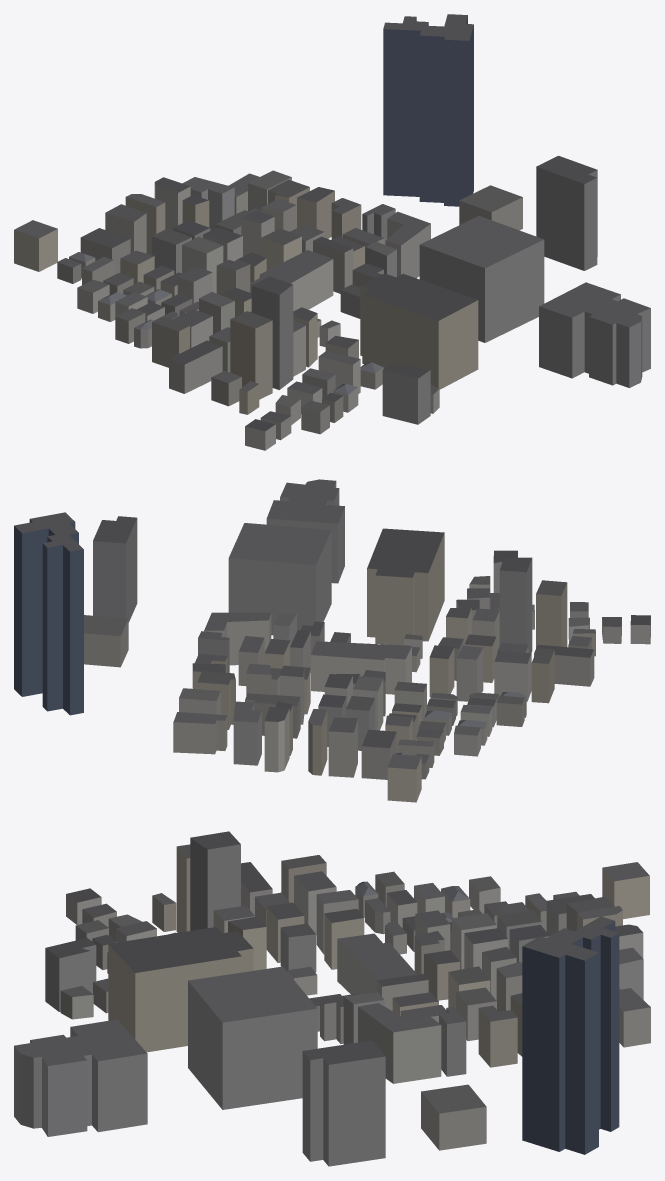
Rendered from 5_0.far.glb.
3 renders of one model, top to bottom at view 1: azimuth 30°, elevation 25°; view 2: azimuth 150°, elevation 25°; view 3: azimuth 270°, elevation 25°, orthographic. The views are drawn at different scales.
Parts seen in each view (by area): view 1: 5_0_far; view 2: 5_0_far; view 3: 5_0_far.
Boxes of the visible parts, left/top/right/bottom form: 5_0_far: left=14, top=14, right=650, bottom=450; 5_0_far: left=14, top=479, right=650, bottom=802; 5_0_far: left=14, top=831, right=650, bottom=1166.
Size of the model in its own units: 275 by 98.87 by 281.
